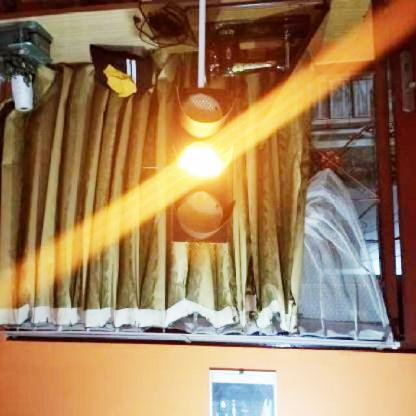Traffic Light -Yellow-: (171, 85, 235, 242)
